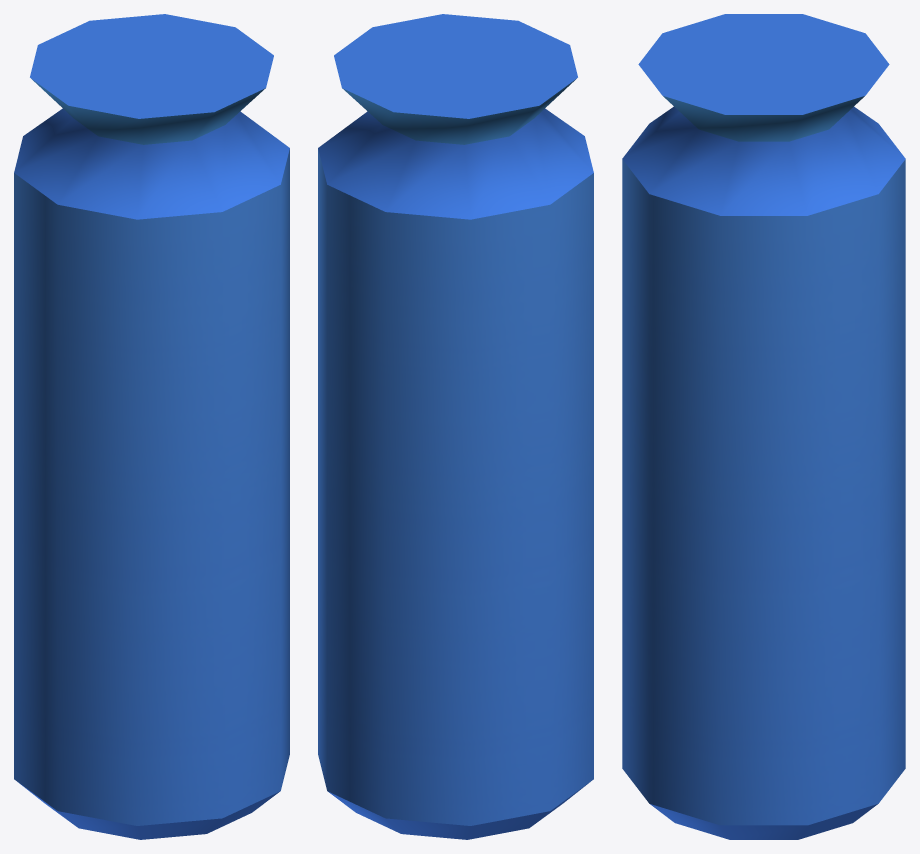
Rendered from Bullet D.fbx.
The picture shows the model from 3 angles, left to right: view 1: azimuth 30°, elevation 25°; view 2: azimuth 150°, elevation 25°; view 3: azimuth 270°, elevation 25°; orthographic projection.
Visible parts, largest first — view 1: Bullet D; view 2: Bullet D; view 3: Bullet D.
Boxes of the visible parts, x1,y1,x2,y2 form: Bullet D: (14,14,289,839); Bullet D: (318,14,593,839); Bullet D: (622,14,905,839).
Size of the model in its own units: 0.0549 by 0.1641 by 0.0577.
